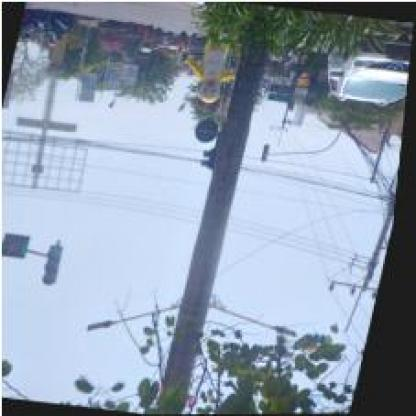green: (44, 243, 66, 285)
